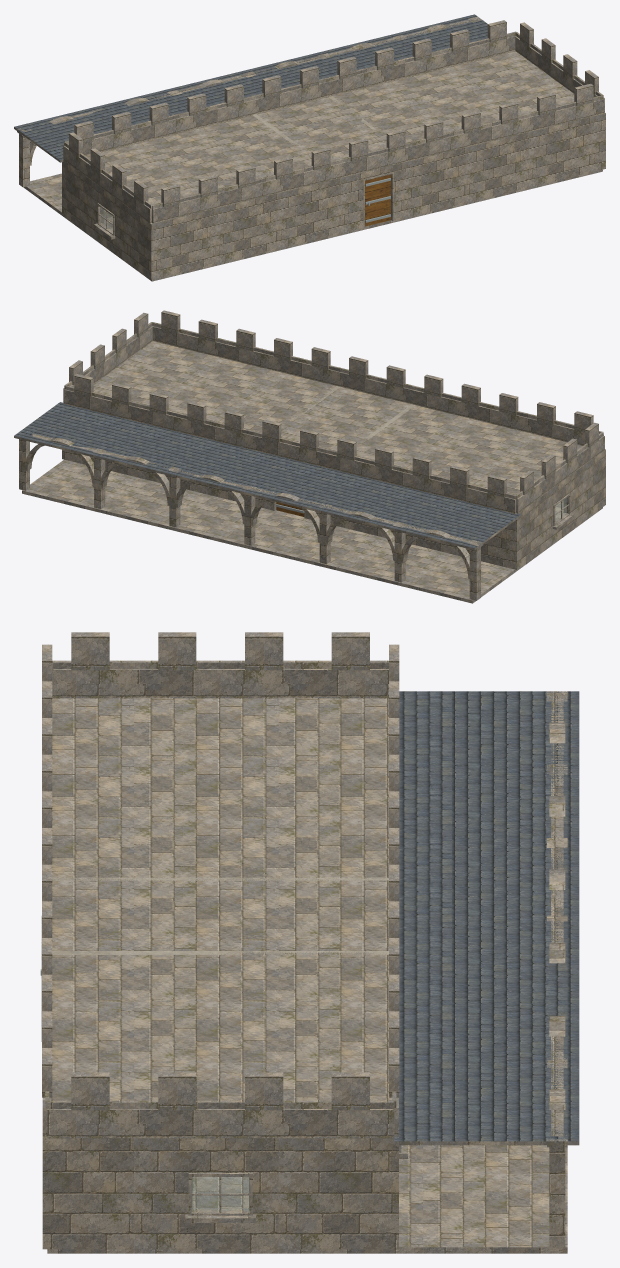
The model's file is castle-barracks-arcade.gltf.
3 views of the same model, one above another, from view 1: azimuth 30°, elevation 25°; view 2: azimuth 150°, elevation 25°; view 3: azimuth 270°, elevation 25° (orthographic). The views are drawn at different scales.
Visible parts, largest first — view 1: roof-parapet-L1-stone, exterior-L0-stone, roof-L1-stone, roof-L1-shingle, structure-L0-stone, floor-L0-stone, datum-band-L0-stone, door-L0-door; view 2: roof-parapet-L1-stone, roof-L1-stone, roof-L1-shingle, floor-L0-stone, exterior-L0-stone, structure-L0-stone; view 3: roof-L1-stone, roof-L1-shingle, roof-parapet-L1-stone, exterior-L0-stone, floor-L0-stone, structure-L0-stone, interior-L0-plaster, datum-band-L0-stone, glazing-L0-glass, facade-trim-L0-stone.
Part boxes in pixels (left/top/right/bottom): roof-parapet-L1-stone: left=63, top=20, right=604, bottom=223; exterior-L0-stone: left=62, top=116, right=605, bottom=279; roof-L1-stone: left=14, top=51, right=574, bottom=204; roof-L1-shingle: left=14, top=14, right=487, bottom=160; structure-L0-stone: left=17, top=16, right=481, bottom=187; floor-L0-stone: left=23, top=169, right=602, bottom=281; datum-band-L0-stone: left=62, top=112, right=605, bottom=227; door-L0-door: left=365, top=174, right=390, bottom=226; roof-parapet-L1-stone: left=63, top=310, right=604, bottom=513; roof-L1-stone: left=14, top=341, right=582, bottom=550; roof-L1-shingle: left=14, top=402, right=520, bottom=548; floor-L0-stone: left=22, top=459, right=602, bottom=603; exterior-L0-stone: left=62, top=449, right=605, bottom=569; structure-L0-stone: left=19, top=433, right=482, bottom=600; roof-L1-stone: left=51, top=698, right=579, bottom=1145; roof-L1-shingle: left=394, top=691, right=579, bottom=1141; roof-parapet-L1-stone: left=42, top=632, right=399, bottom=1138; exterior-L0-stone: left=42, top=1144, right=398, bottom=1249; floor-L0-stone: left=47, top=1145, right=567, bottom=1253; structure-L0-stone: left=547, top=691, right=567, bottom=1250; interior-L0-plaster: left=52, top=877, right=388, bottom=954; datum-band-L0-stone: left=42, top=1136, right=398, bottom=1144; glazing-L0-glass: left=192, top=1177, right=249, bottom=1210; facade-trim-L0-stone: left=185, top=1145, right=407, bottom=1222.
Size of the model in its own units: 18.48 by 3.42 by 9.31.
6 materials, 4 textured.
